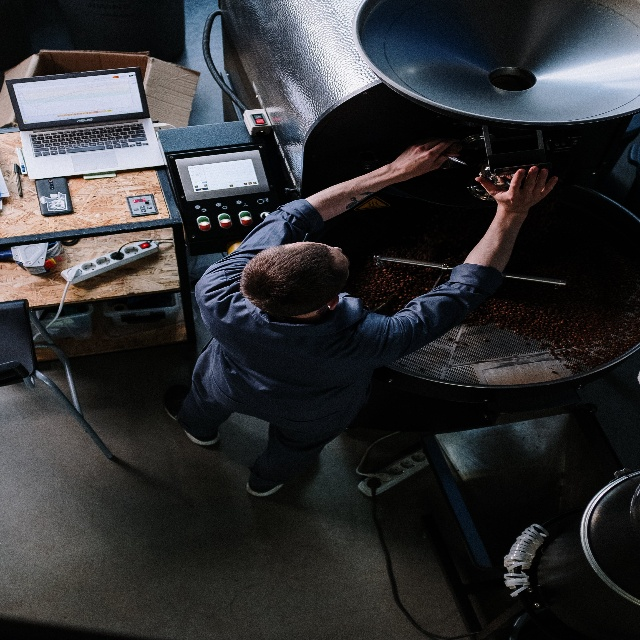Sin_guantes: (474, 165, 557, 213), (395, 137, 461, 177)
